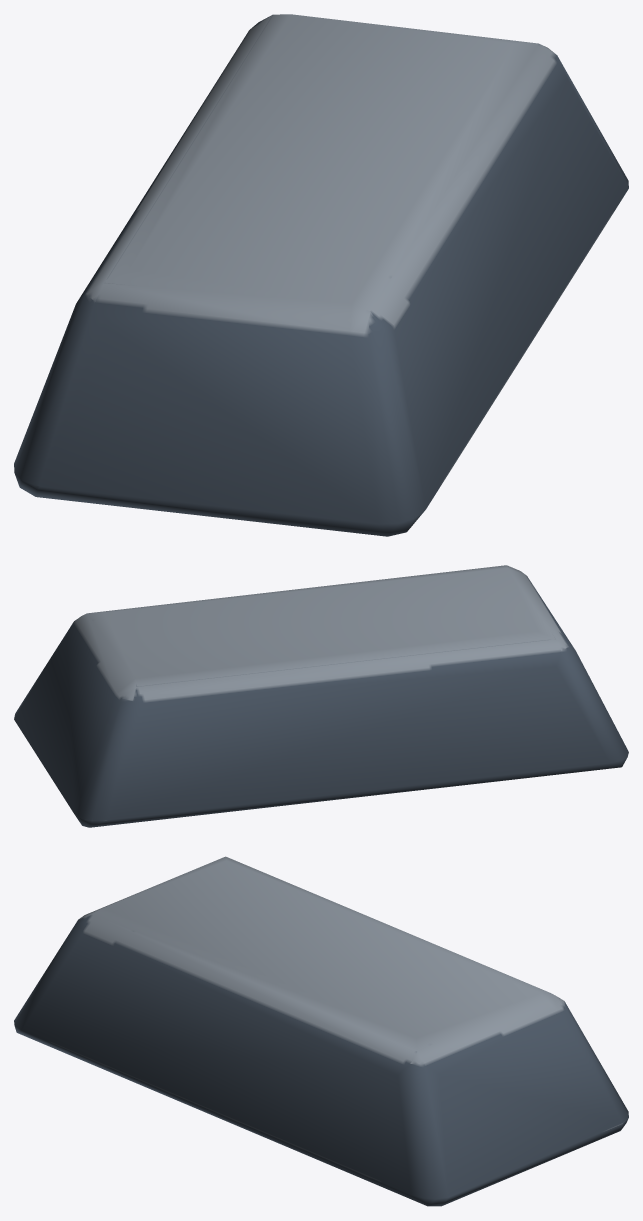
Rendered from item_ingot.glb.
The picture shows the model from 3 angles, top to bottom: view 1: azimuth 30°, elevation 25°; view 2: azimuth 150°, elevation 25°; view 3: azimuth 270°, elevation 25°; orthographic projection. The views are drawn at different scales.
Parts seen in each view (by area): view 1: ingot; view 2: ingot; view 3: ingot.
Part boxes in pixels (x1=…): ingot: x1=14, y1=14, x2=628, y2=536; ingot: x1=14, y1=565, x2=628, y2=827; ingot: x1=14, y1=856, x2=628, y2=1206.
Size of the model in its own units: 0.6708 by 0.16 by 0.6708.
Materials: 1 (1 with a texture image).
